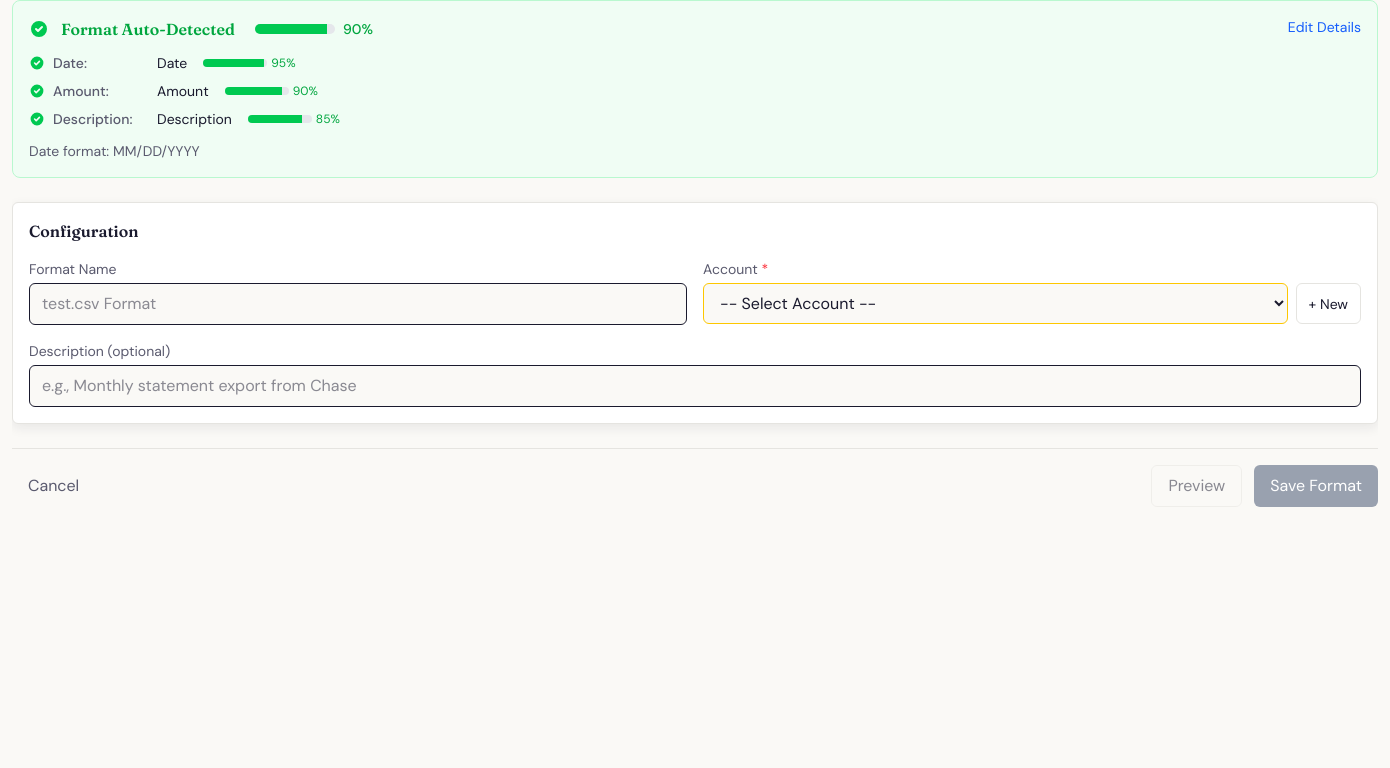
Test: CustomFormatMapper › toggles advanced settings
This screenshot has width=1390, height=768.
Expected: the text "Advanced Settings" is not shown
Click the button "Edit Details" at (1324, 27), box [1288,17,1361,37]
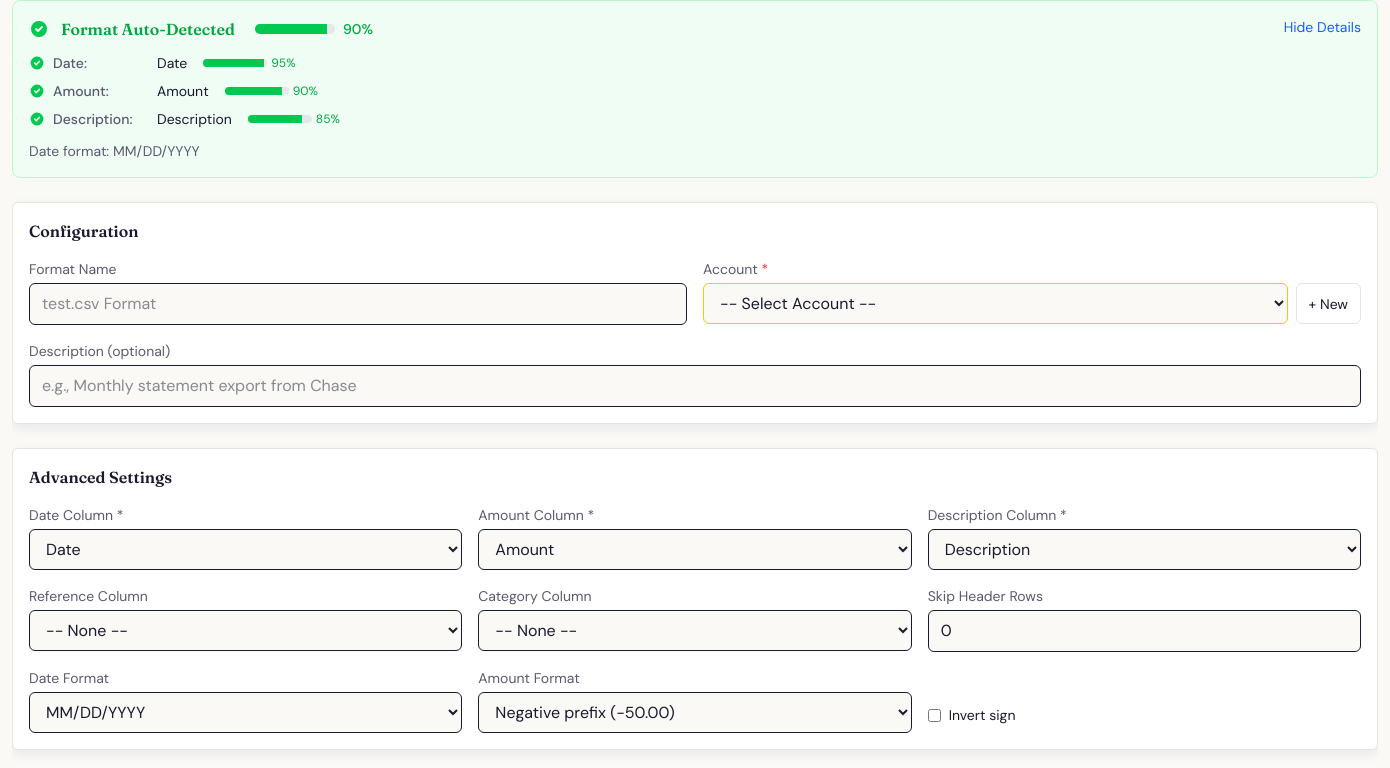
Expected: the heading "Advanced Settings" is shown, [29,467,172,487]
Expected: the text "Date Column *" is shown, [29,506,124,524]
Expected: the text "Amount Column *" is shown, [478,506,594,524]
